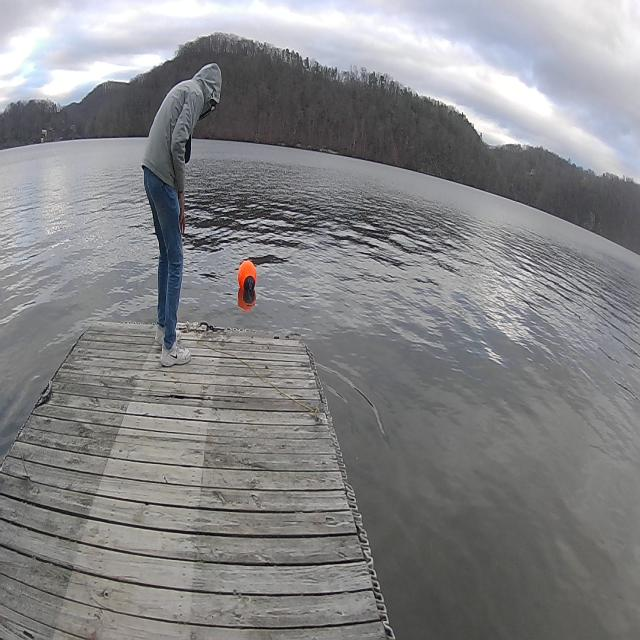Buoy: (237, 250, 258, 302)
